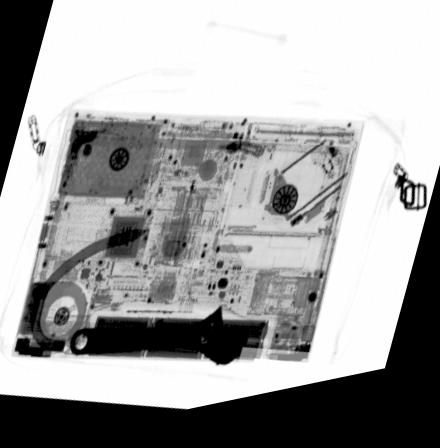Wrench: (69, 310, 253, 373)
